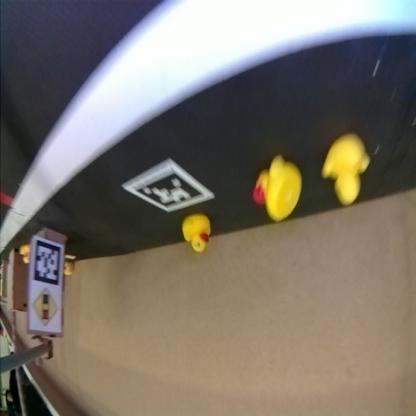Duckie: (323, 136, 370, 206), (256, 157, 302, 221), (184, 216, 212, 254), (20, 246, 30, 264), (63, 262, 74, 276)
QR code: (125, 163, 211, 211), (34, 242, 62, 286)
Signal sign: (34, 292, 60, 327)
